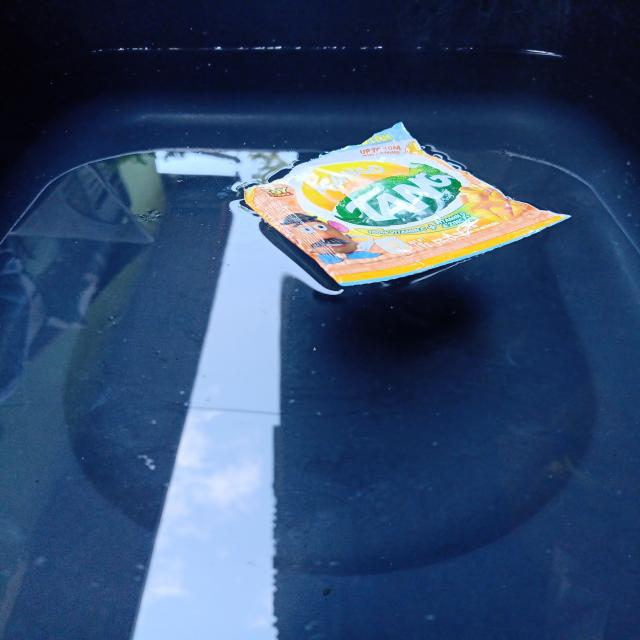Plastic Wrapper: (244, 123, 569, 286)
